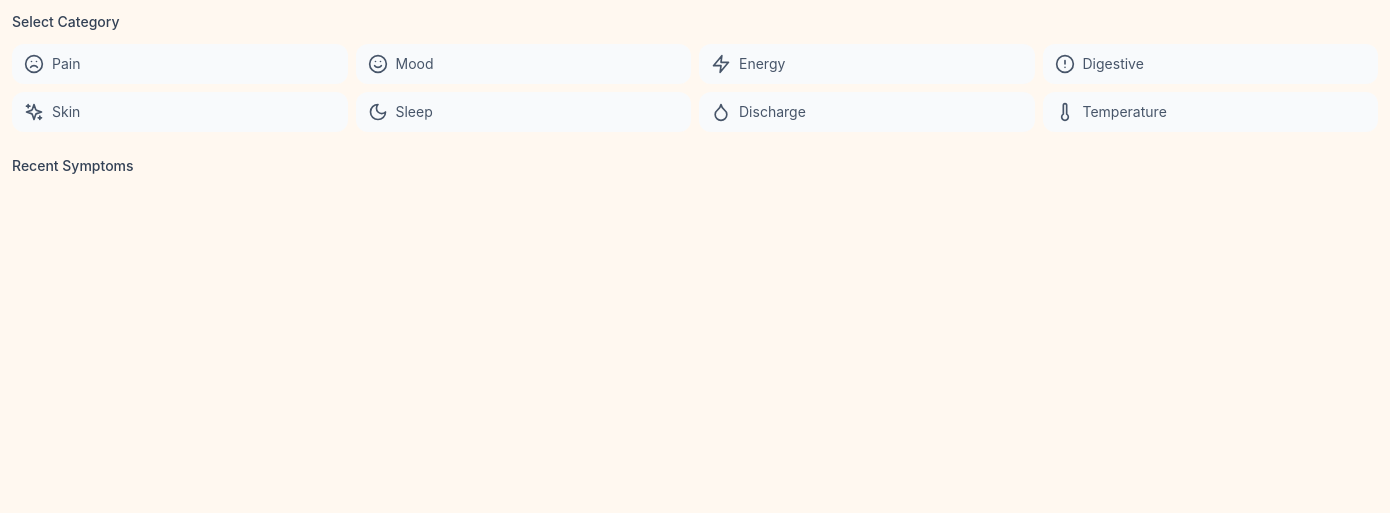
Test: SymptomLogger client-side sealing › shows the encrypted indicator once unlocked
What coordinates should you click on to do the following:
click the button "Pain"
I would click on:
 (34, 64)
Its box is [12,44,348,84].
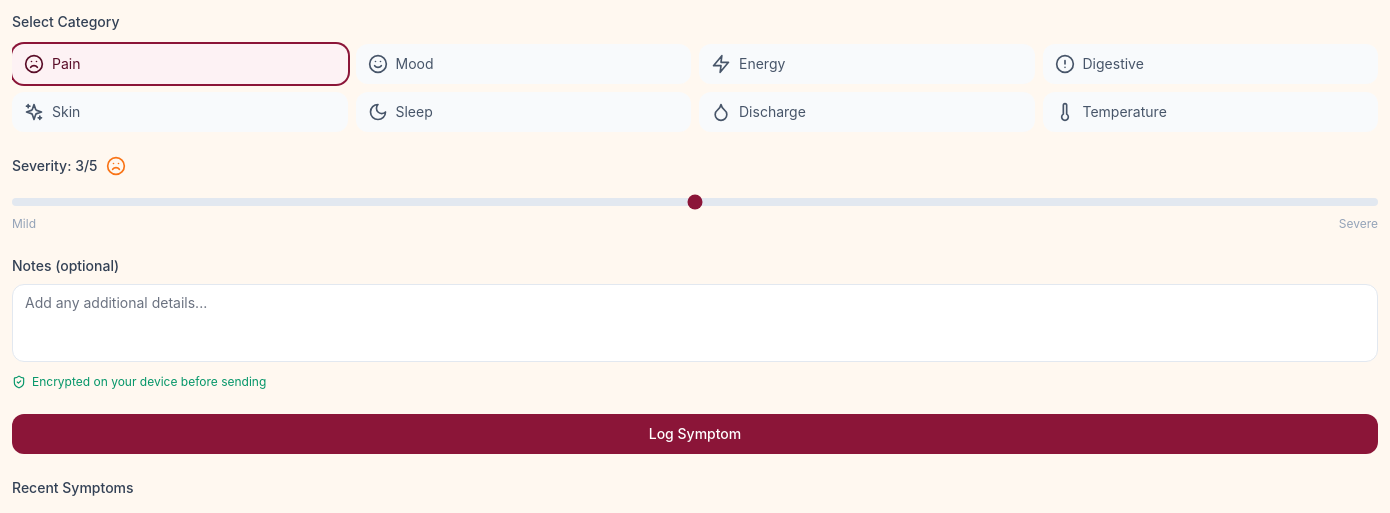
Now the text "Encrypted on your device before sending" is shown, box [12,374,266,389]
